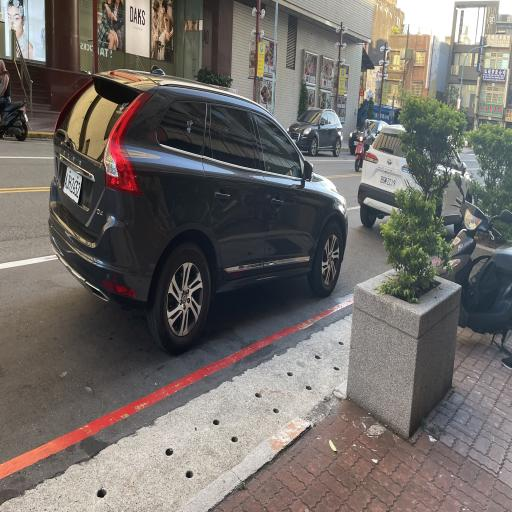MIU: (76, 211, 236, 417), (296, 204, 367, 324)
car: (36, 43, 350, 363)
redline: (0, 276, 356, 486)
